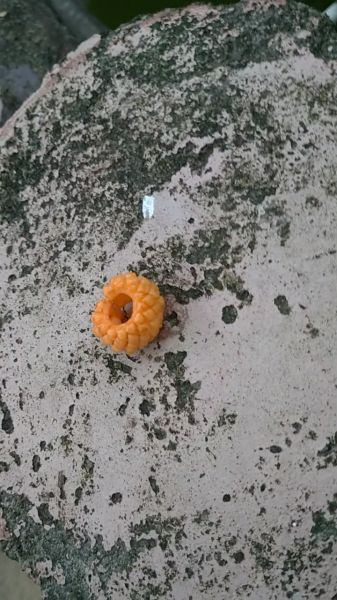eggs: (85, 269, 169, 353)
